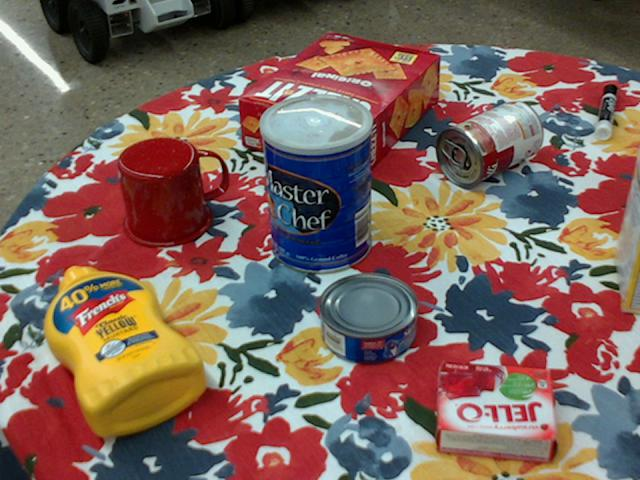cracker_box: (240, 33, 442, 178)
gelatin_box: (437, 362, 559, 463)
large_marker: (595, 84, 619, 138)
master_chef_can: (259, 93, 372, 273)
mug: (117, 136, 226, 247)
mustard_bottle: (44, 266, 207, 436)
sugar_box: (614, 147, 639, 314)
tomato_soup_can: (437, 98, 544, 187)
tuna_fish_can: (318, 274, 419, 365)
